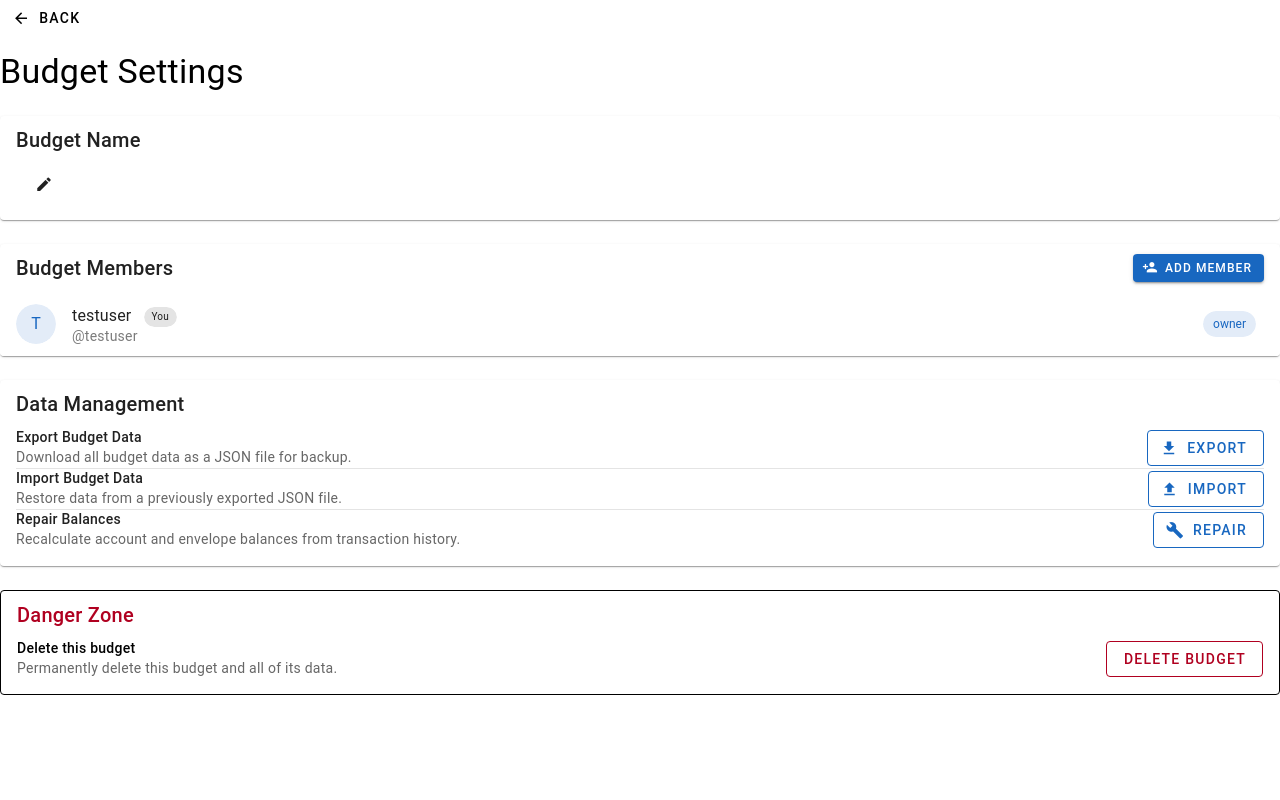
Test: BudgetSettingsView › Budget Members › can open add member dialog
Click the button "Add Member". click: (1199, 268)
box: left=1133, top=254, right=1264, bottom=282
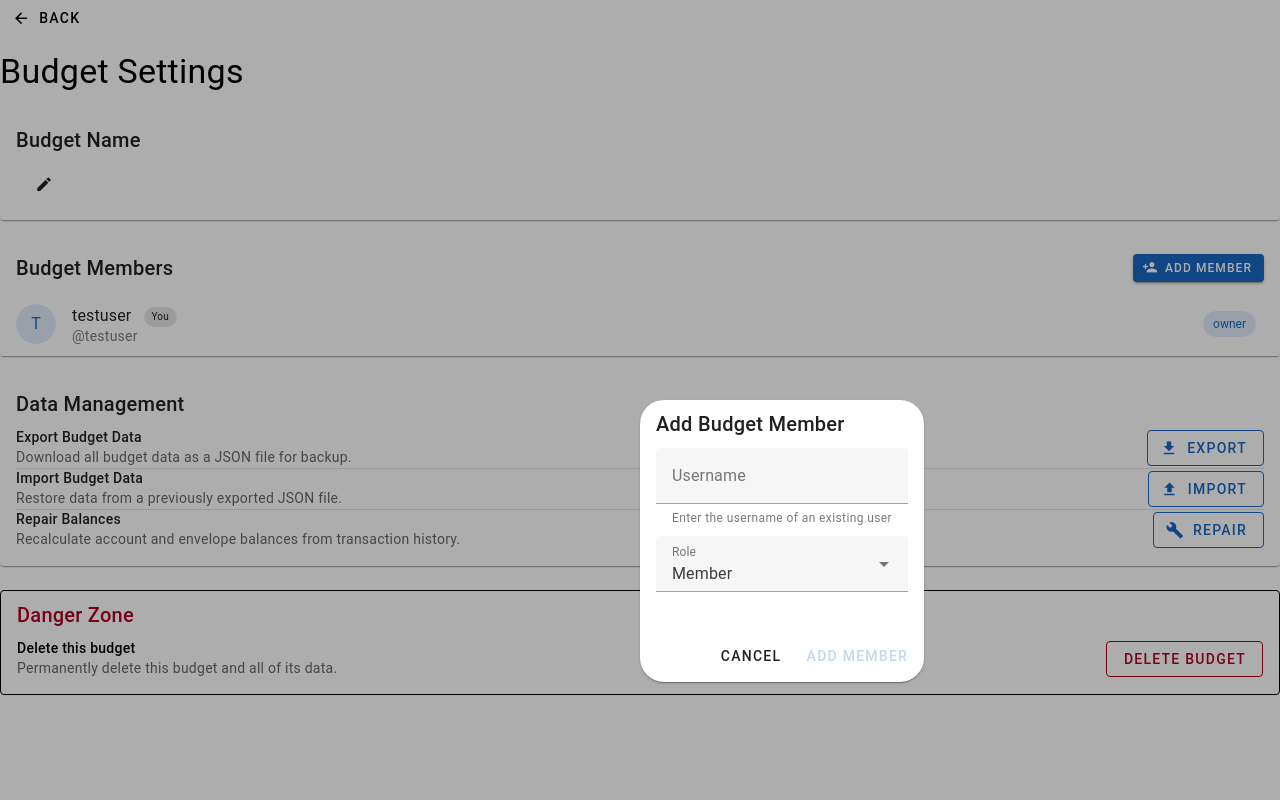
Now the text "Add Budget Member" is shown, box left=656, top=412, right=845, bottom=436
Now the text "Username" is shown, box left=672, top=464, right=746, bottom=488
Now the text "Role" is shown, box left=672, top=543, right=696, bottom=561
